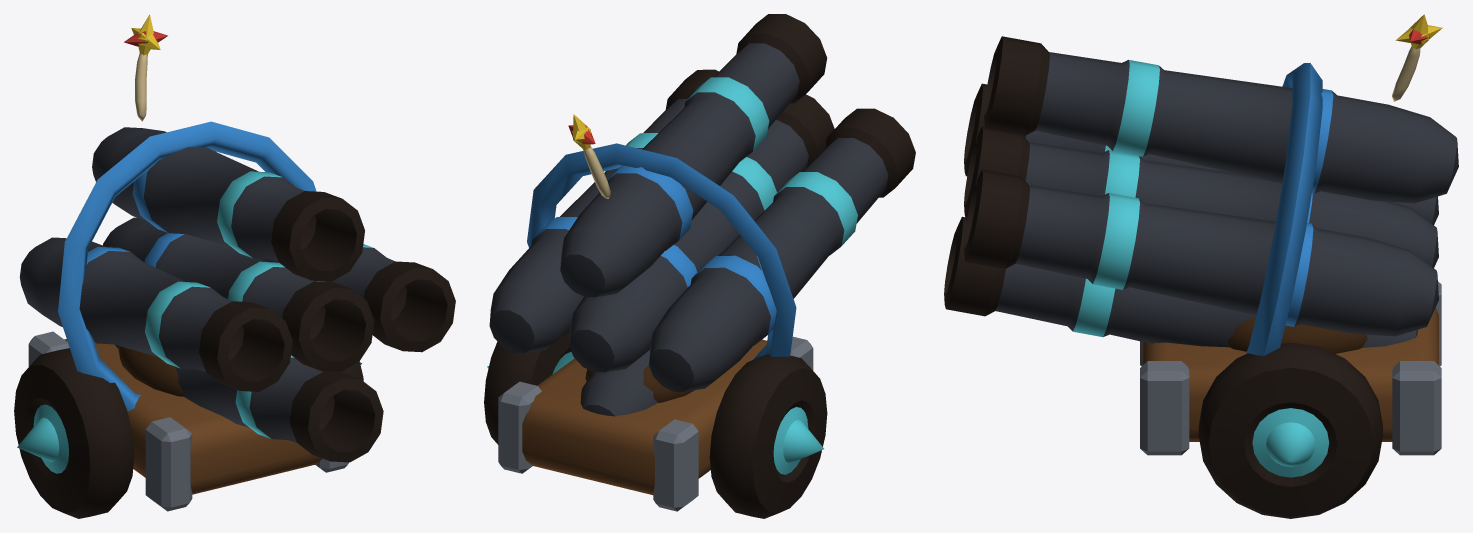
3 views of the same model, side by side, from view 1: azimuth 30°, elevation 25°; view 2: azimuth 150°, elevation 25°; view 3: azimuth 270°, elevation 25° (orthographic). The views are drawn at different scales.
Visible parts, largest first — view 1: bomba_1_torreta, bomba_0_base; view 2: bomba_1_torreta, bomba_0_base; view 3: bomba_1_torreta, bomba_0_base.
Part boxes in pixels (<box>): bomba_1_torreta: <box>19,14,455,462</box>; bomba_0_base: <box>14,331,363,518</box>; bomba_1_torreta: <box>489,14,915,416</box>; bomba_0_base: <box>484,330,827,518</box>; bomba_1_torreta: <box>944,14,1458,356</box>; bomba_0_base: <box>1140,281,1441,518</box>.
Bounding box in the file's own units: 0.784 × 0.907 × 0.9381.
